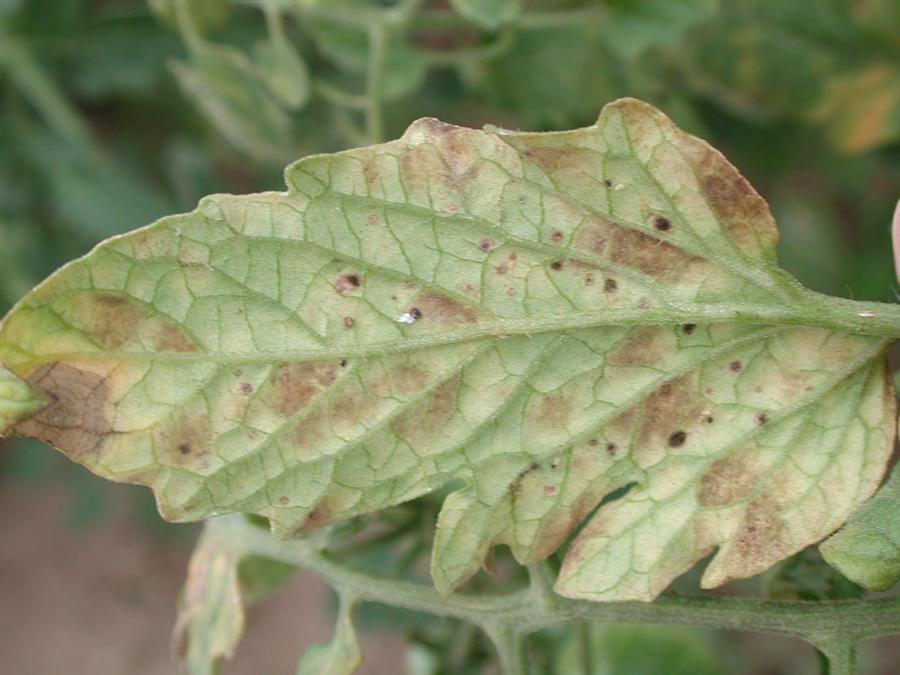Tomato mold leaf: (0, 71, 894, 640)
